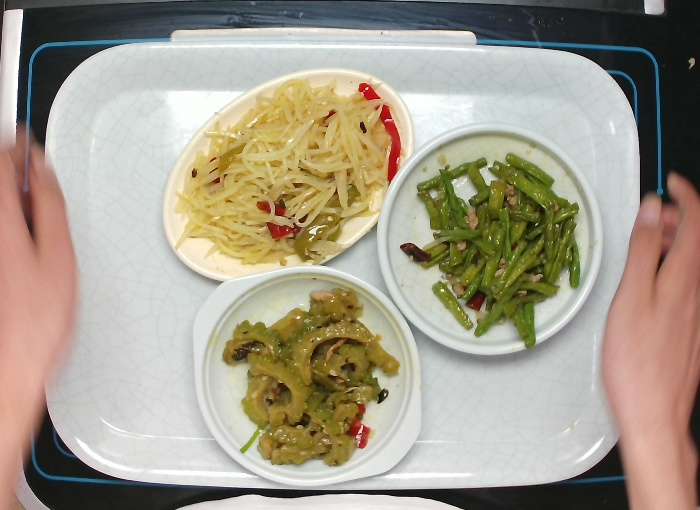JYsf-Shuang_Er_Pan: (192, 260, 429, 493)
JYsf-Tuo_Yuan_Wan: (160, 61, 418, 293)
JYsf-Xiao_Yuan_Pan: (370, 118, 608, 361)
